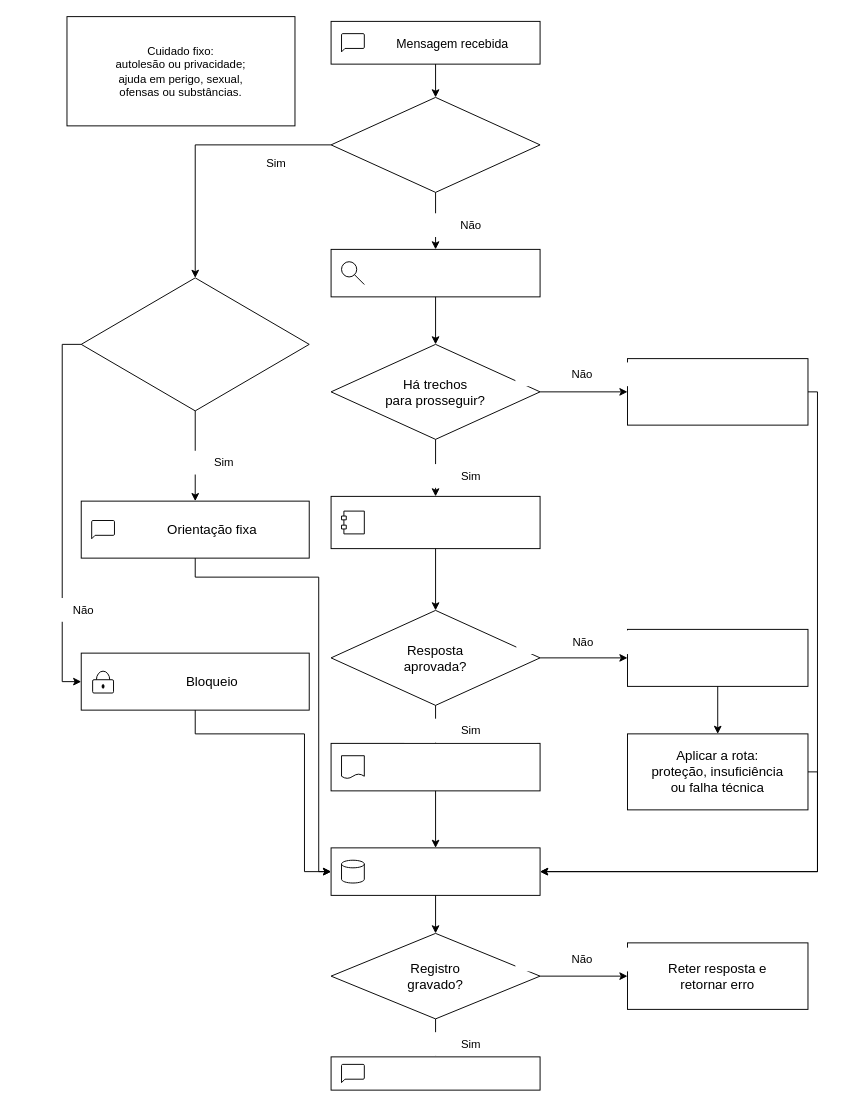
Image size: 842x1107. Some labels were removed from this diagram. Each missing label, with the box of its shape:
Aplica-se cuidado fixo?: (80, 277, 309, 411)
Buscar no acervo do chat: (330, 248, 540, 297)
Exibir mensagem: (330, 1056, 540, 1090)
Exige proteção?: (330, 96, 540, 192)
Gerar e verificar a resposta: (330, 495, 540, 549)
Informar insuficiência: (627, 358, 808, 425)
Preparar resposta com fontes: (330, 742, 540, 791)
Reter rascunho: (627, 628, 808, 686)
Tentar persistir o registro: (330, 847, 540, 895)
